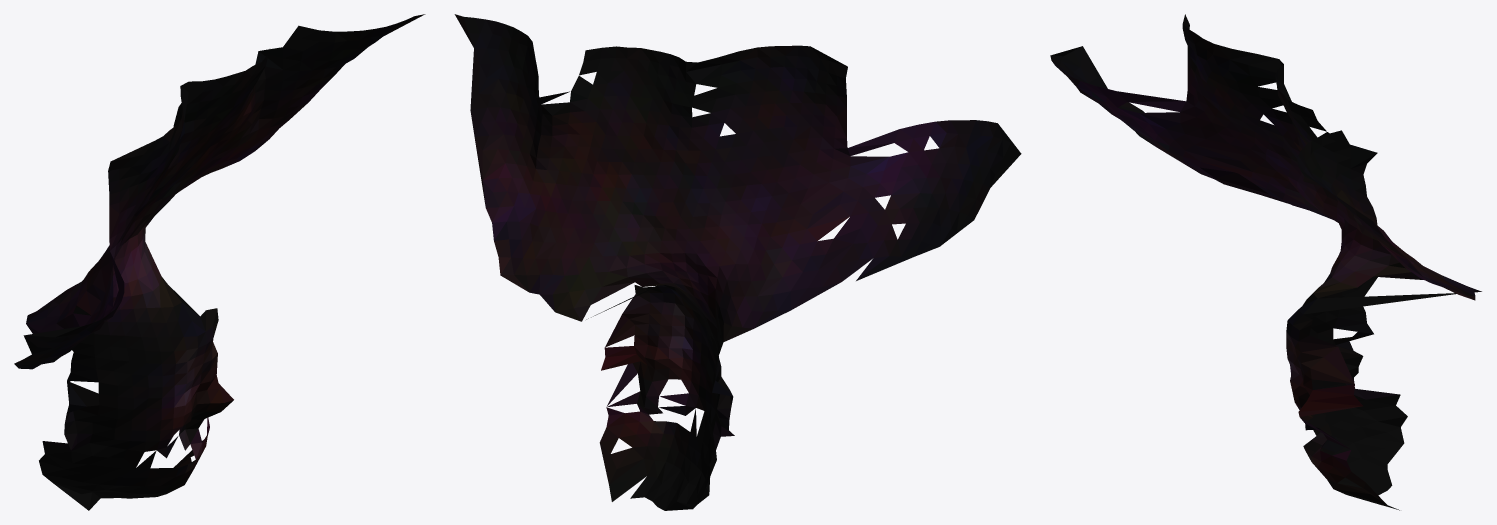
3 renders of one model, left to right at view 1: azimuth 30°, elevation 25°; view 2: azimuth 150°, elevation 25°; view 3: azimuth 270°, elevation 25°, orthographic. The views are drawn at different scales.
Visible parts, largest first — view 1: ofMesh; view 2: ofMesh; view 3: ofMesh.
Part boxes in pixels (left/top/right/bottom): ofMesh: left=14, top=14, right=425, bottom=510; ofMesh: left=454, top=14, right=1021, bottom=510; ofMesh: left=1050, top=14, right=1481, bottom=510.
Bounding box in the file's own units: 480 × 400 × 359.
1 material, 1 textured.
